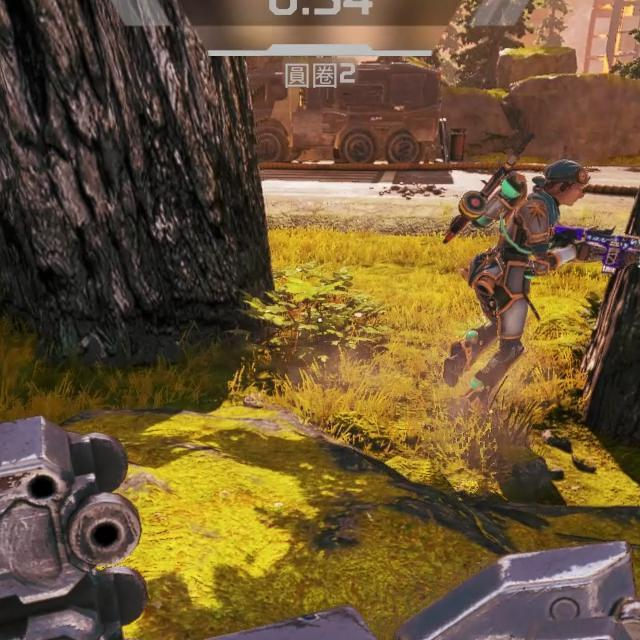avatar: (440, 159, 593, 408)
